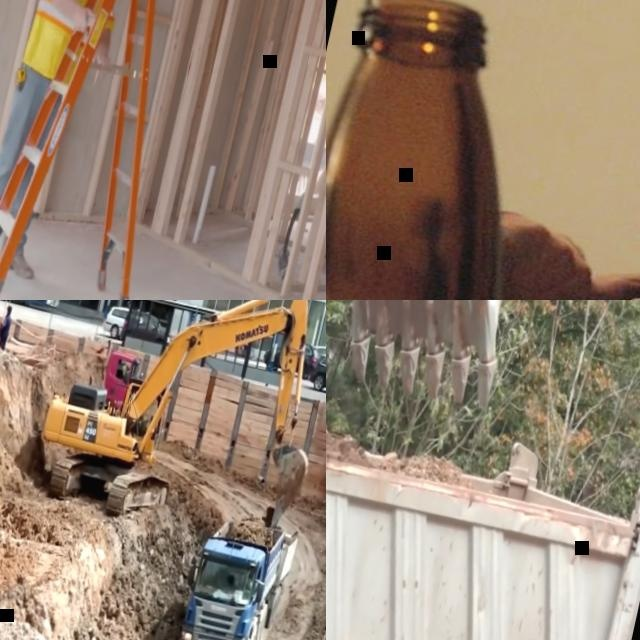NO-Hardhat: (6, 305, 12, 311)
NO-Safety Vest: (0, 315, 11, 339)
Person: (419, 0, 640, 300), (0, 0, 131, 287), (0, 303, 14, 349), (240, 571, 254, 592)
Safety Vest: (30, 0, 134, 45), (245, 576, 252, 589)
machinery: (326, 300, 640, 640), (27, 300, 326, 556), (326, 300, 574, 420), (165, 489, 304, 640), (97, 347, 147, 412)
vehicle: (118, 306, 177, 356), (261, 332, 320, 380), (99, 301, 145, 343), (305, 347, 326, 400)
